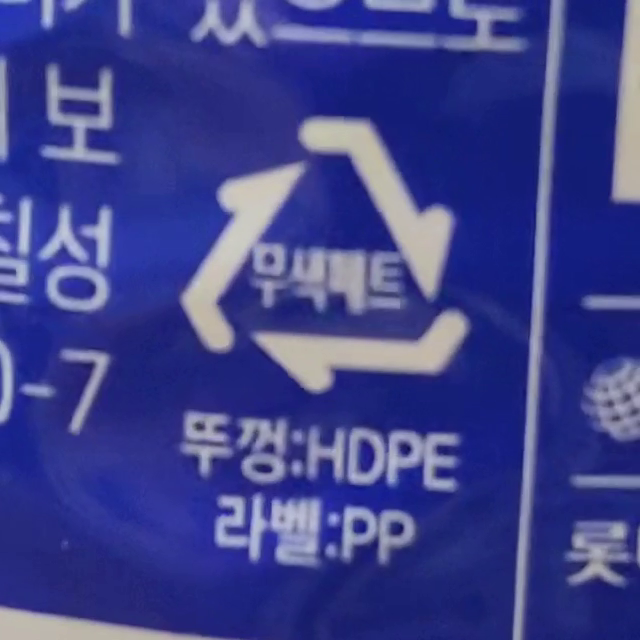ColorlessPet: (178, 118, 464, 393)
